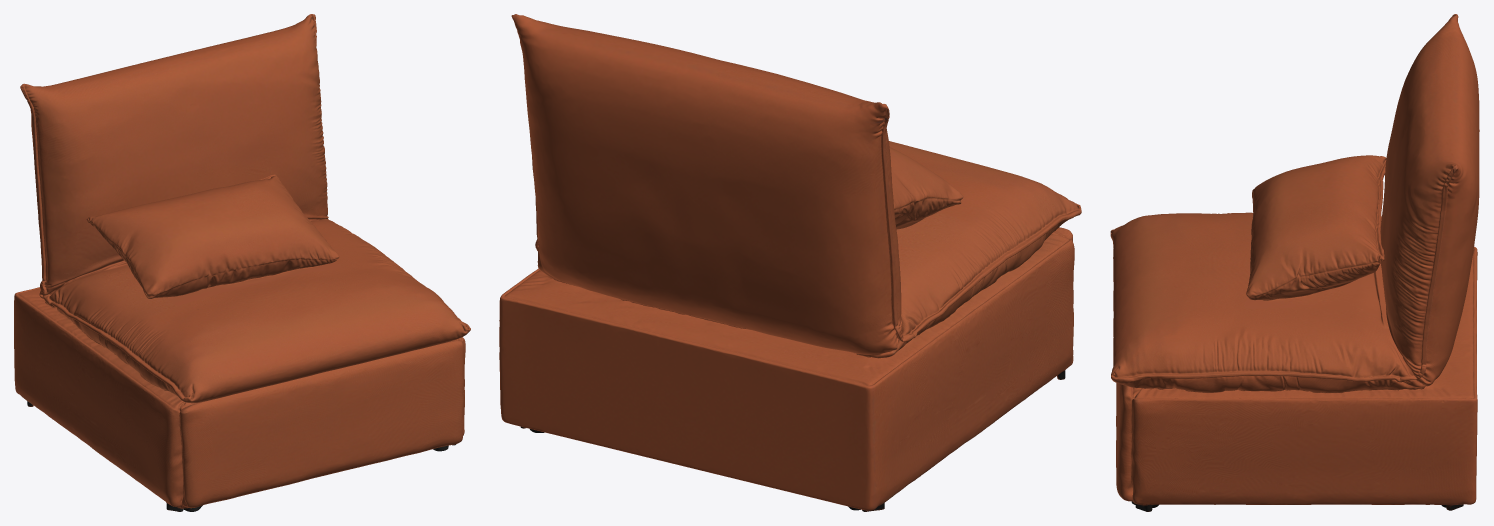
The model's file is meshy-19.glb.
The picture shows the model from 3 angles, left to right: view 1: azimuth 30°, elevation 25°; view 2: azimuth 150°, elevation 25°; view 3: azimuth 270°, elevation 25°; orthographic projection. The views are drawn at different scales.
Parts seen in each view (by area): view 1: RealScale; view 2: RealScale; view 3: RealScale.
Boxes of the visible parts, left/top/right/bottom form: RealScale: left=14, top=14, right=470, bottom=511; RealScale: left=499, top=14, right=1081, bottom=511; RealScale: left=1110, top=14, right=1479, bottom=511.
Bounding box in the file's own units: 0.7728 × 0.8 × 0.7693.
1 material, 1 textured.
